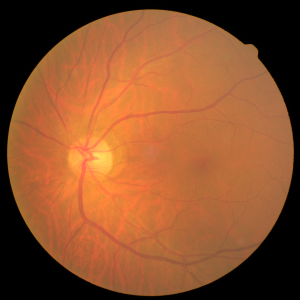cataract: (30, 103, 234, 209)
